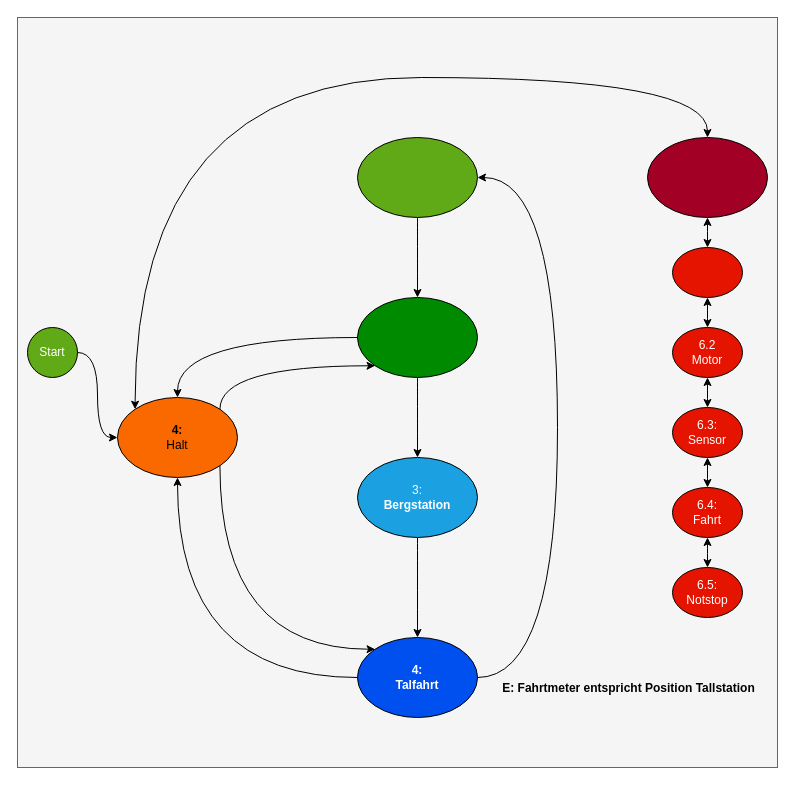
This 795x785 diagram has some shape labels left out. The shapes that lost their labels are listed below. From the top down, each one's box as (x1, y1, x2, y2) in pixels, then its label:
(356, 136, 478, 218): 1 Talstation
(646, 136, 768, 218): Interupt: Error
(672, 246, 742, 298): 6.1: Bremse
(356, 296, 478, 378): 2:. Bergfahrt
